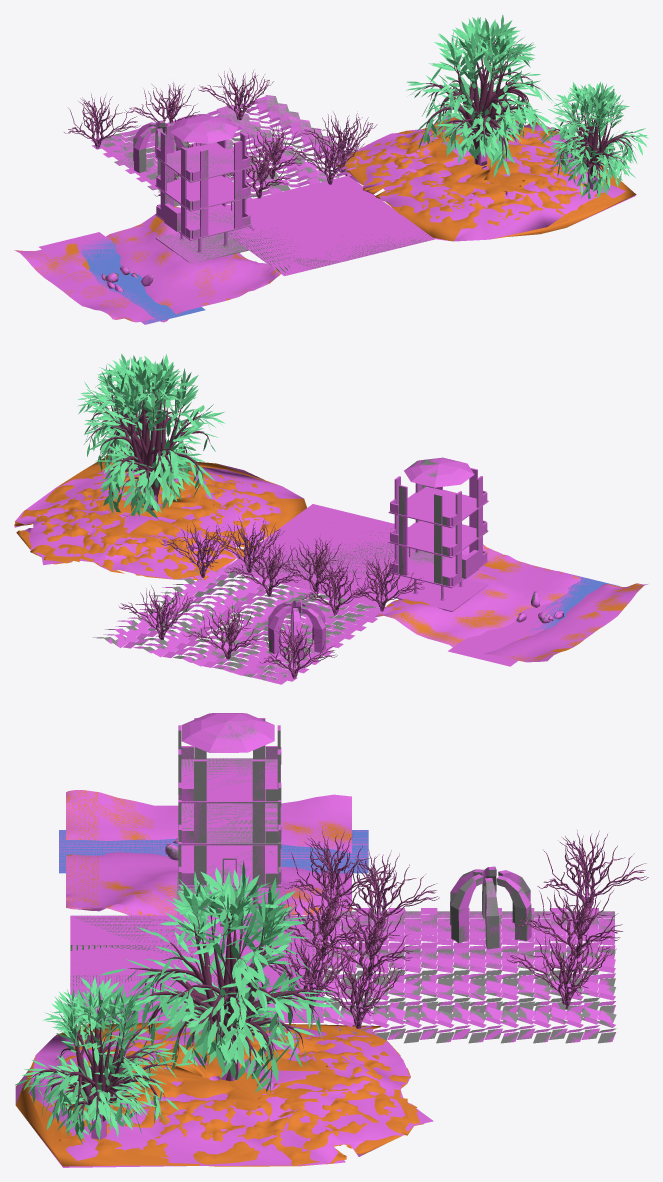
Rendered from level_01.glb.
3 views of the same model, one above another, from view 1: azimuth 30°, elevation 25°; view 2: azimuth 150°, elevation 25°; view 3: azimuth 270°, elevation 25° (orthographic). The views are drawn at different scales.
Visible parts, largest first — view 1: COL_Static, Landscape.001, leaves, Trees group, leaves.001, Tiles, tree, Landscape_plane, Landscape, tree.001, Plane.004, Pavilion (+2 smaller); view 2: COL_Static, Landscape.001, leaves, Trees group, Tiles, Landscape, tree, leaves.001, Landscape_plane, Central Plane; view 3: COL_Static, Landscape.001, leaves, Trees group, leaves.001, Tiles, tree, Landscape, Landscape_plane, tree.001, Pavilion, Plane.002 (+2 smaller).
Boxes of the visible parts, x1=… form: COL_Static: x1=15, y1=72, x2=635, y2=324; Landscape.001: x1=333, y1=117, x2=636, y2=241; leaves: x1=406, y1=14, x2=553, y2=177; Trees group: x1=64, y1=69, x2=375, y2=198; leaves.001: x1=540, y1=82, x2=648, y2=199; Tiles: x1=92, y1=95, x2=358, y2=206; tree: x1=419, y1=31, x2=540, y2=165; Landscape_plane: x1=78, y1=239, x2=205, y2=324; Landscape: x1=14, y1=206, x2=280, y2=321; tree.001: x1=548, y1=97, x2=637, y2=187; Plane.004: x1=157, y1=233, x2=248, y2=262; Pavilion: x1=133, y1=120, x2=188, y2=175; COL_Static: x1=14, y1=444, x2=647, y2=684; Landscape.001: x1=14, y1=455, x2=306, y2=580; leaves: x1=84, y1=354, x2=225, y2=518; Trees group: x1=119, y1=518, x2=423, y2=677; Tiles: x1=93, y1=568, x2=376, y2=680; Landscape: x1=378, y1=545, x2=642, y2=661; tree: x1=91, y1=374, x2=210, y2=510; leaves.001: x1=77, y1=354, x2=180, y2=474; Landscape_plane: x1=531, y1=575, x2=619, y2=633; Central Plane: x1=226, y1=529, x2=415, y2=584; COL_Static: x1=15, y1=713, x2=647, y2=1167; Landscape.001: x1=15, y1=1022, x2=424, y2=1166; leaves: x1=99, y1=861, x2=345, y2=1095; Trees group: x1=268, y1=831, x2=648, y2=1028; leaves.001: x1=15, y1=977, x2=194, y2=1143; Tiles: x1=322, y1=909, x2=616, y2=1043; tree: x1=128, y1=886, x2=323, y2=1081; Landscape: x1=66, y1=790, x2=351, y2=915; Landscape_plane: x1=59, y1=830, x2=368, y2=873; tree.001: x1=30, y1=993, x2=173, y2=1122; Pavilion: x1=450, y1=867, x2=531, y2=949; Plane.002: x1=178, y1=803, x2=281, y2=845.
Size of the model in its own units: 235 by 71.54 by 166.
